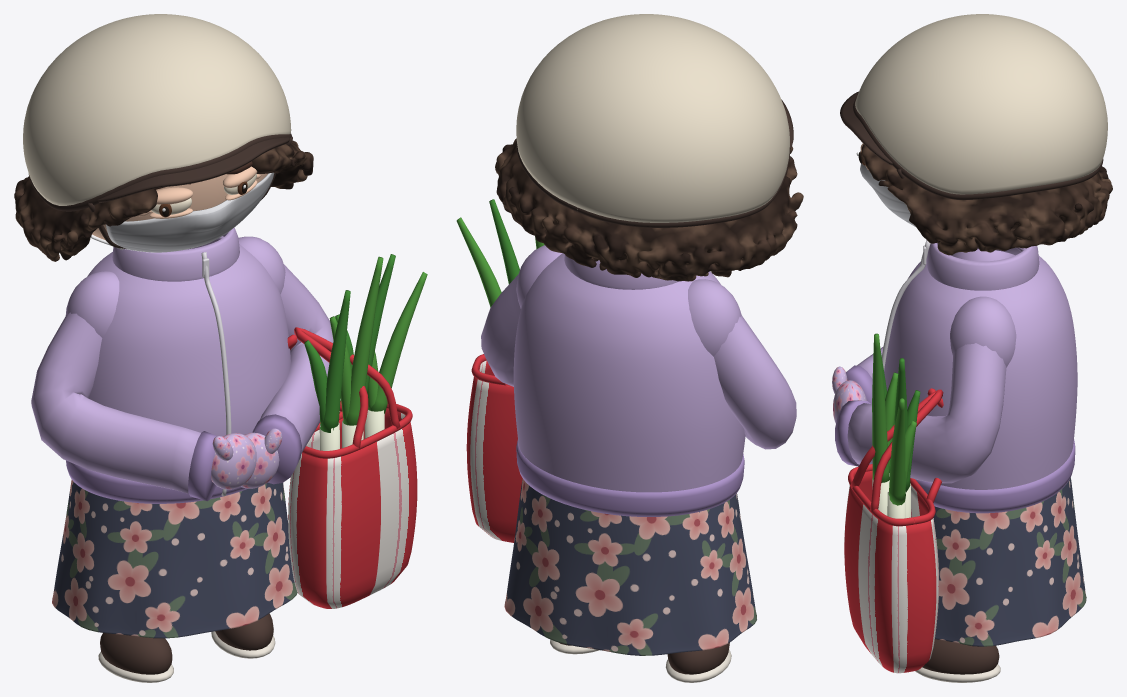
The model's file is dama-character.glb.
3 renders of one model, left to right at view 1: azimuth 30°, elevation 25°; view 2: azimuth 150°, elevation 25°; view 3: azimuth 270°, elevation 25°, orthographic. The views are drawn at different scales.
Visible parts, largest first — view 1: Helmet, Skirt, Jacket, Bag, Sleeve.R, Hair, Sleeve.L, Mask, Collar, JacketHem, Shoe.R, HelmetPeak (+19 smaller); view 2: Helmet, Jacket, Skirt, Hair, Bag, Sleeve.R, JacketHem, SoftShoulder.-1, Sleeve.L, Collar, HelmetRim, Shoe.R (+4 smaller); view 3: Helmet, Jacket, Skirt, Bag, Hair, Sleeve.L, Collar, JacketHem, SoftShoulder.1, Shoe.L, Onion.1.0, HelmetRim (+13 smaller).
Boxes of the visible parts, bbox=[...] form: Helmet: bbox=[23, 14, 291, 205]; Skirt: bbox=[52, 479, 297, 638]; Jacket: bbox=[87, 236, 290, 436]; Bag: bbox=[288, 408, 417, 608]; Sleeve.R: bbox=[31, 312, 200, 493]; Hair: bbox=[14, 140, 313, 261]; Sleeve.L: bbox=[260, 264, 333, 454]; Mask: bbox=[106, 172, 274, 252]; Collar: bbox=[112, 227, 239, 281]; JacketHem: bbox=[66, 460, 247, 503]; Shoe.R: bbox=[100, 633, 172, 674]; HelmetPeak: bbox=[97, 137, 289, 202]; Helmet: bbox=[516, 14, 789, 222]; Jacket: bbox=[513, 253, 745, 492]; Skirt: bbox=[504, 478, 756, 655]; Hair: bbox=[495, 138, 803, 281]; Bag: bbox=[466, 360, 522, 542]; Sleeve.R: bbox=[714, 316, 796, 449]; JacketHem: bbox=[516, 440, 744, 516]; SoftShoulder.-1: bbox=[688, 279, 741, 356]; Sleeve.L: bbox=[481, 274, 520, 386]; Collar: bbox=[564, 254, 678, 289]; HelmetRim: bbox=[516, 141, 790, 227]; Shoe.R: bbox=[667, 642, 729, 674]; Helmet: bbox=[855, 14, 1107, 194]; Jacket: bbox=[884, 247, 1077, 489]; Skirt: bbox=[933, 477, 1086, 646]; Bag: bbox=[844, 470, 938, 673]; Hair: bbox=[861, 144, 1112, 255]; Sleeve.L: bbox=[847, 343, 1006, 483]; Collar: bbox=[927, 243, 1039, 290]; JacketHem: bbox=[915, 439, 1075, 513]; SoftShoulder.1: bbox=[950, 296, 1016, 367]; Shoe.L: bbox=[922, 639, 999, 674]; Onion.1.0: bbox=[872, 333, 889, 482]; HelmetRim: bbox=[853, 97, 1103, 200].
Size of the model in its own units: 1.43 by 2.38 by 0.99.
Materials: 24 (4 with a texture image).
